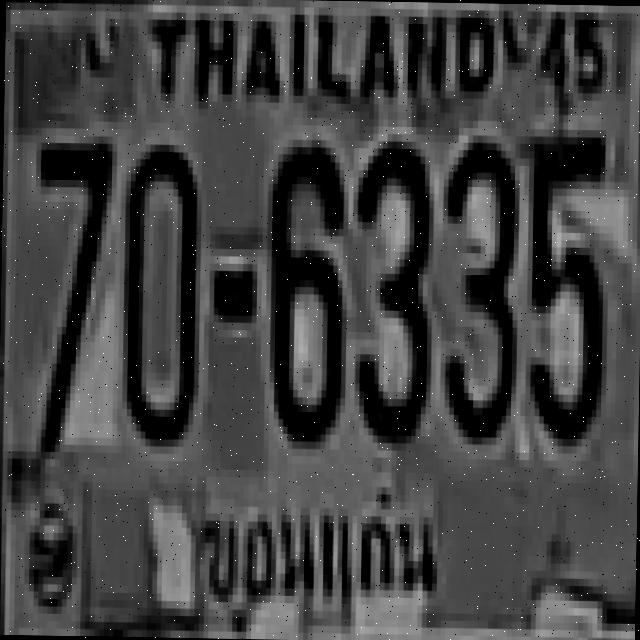0: (119, 136, 200, 439)
3: (348, 132, 429, 436), (439, 134, 515, 437)
5: (522, 128, 603, 438)
6: (264, 138, 344, 434)
7: (31, 135, 107, 445), (32, 131, 108, 412), (32, 134, 108, 356)
KhonKaen: (188, 464, 447, 640)
